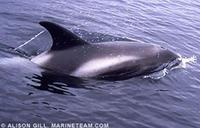fish: (23, 20, 184, 85)
